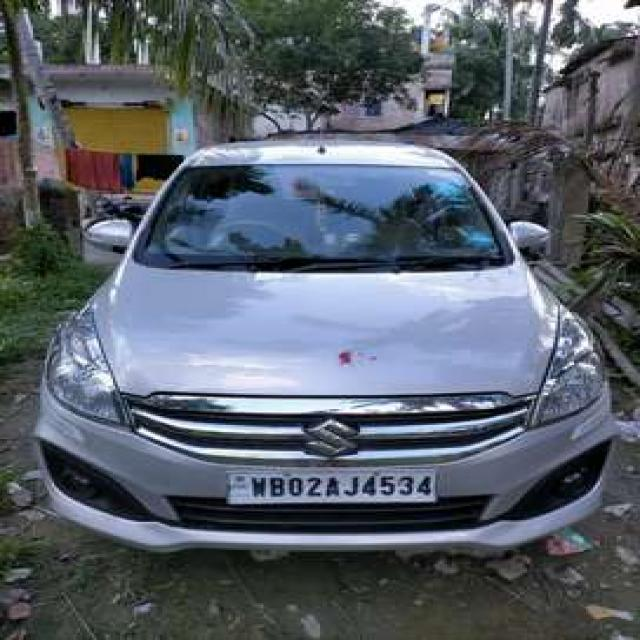Plate: (227, 467, 434, 506)
